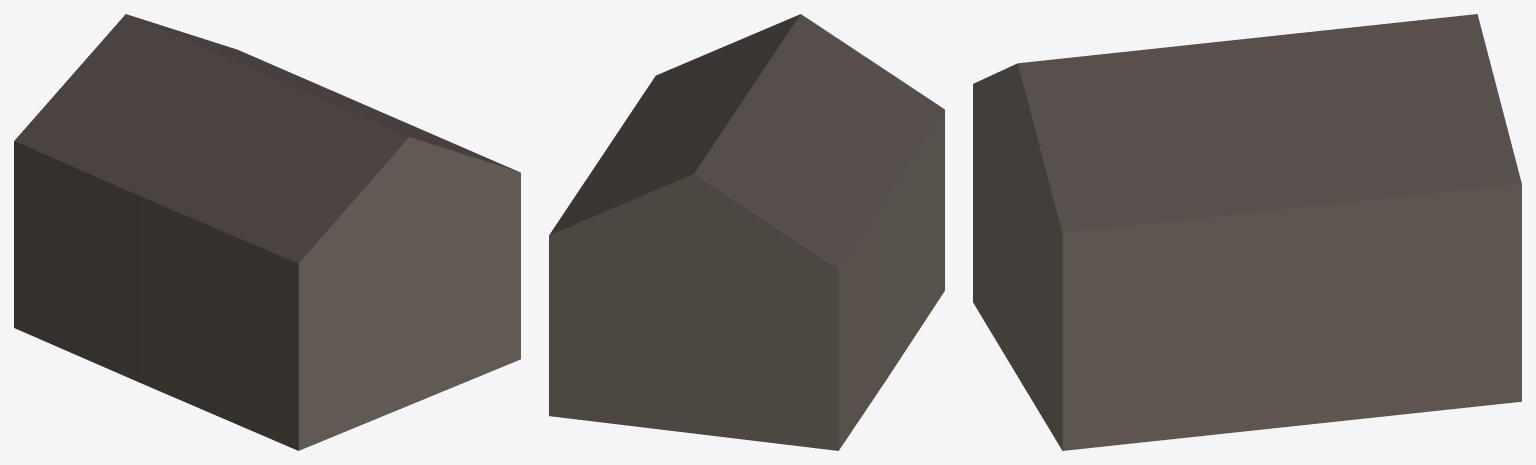
The picture shows the model from 3 angles, left to right: view 1: azimuth 30°, elevation 25°; view 2: azimuth 150°, elevation 25°; view 3: azimuth 270°, elevation 25°; orthographic projection. The views are drawn at different scales.
Parts seen in each view (by area): view 1: HP-w1197283889; view 2: HP-w1197283889; view 3: HP-w1197283889.
Boxes of the visible parts, left/top/right/bottom form: HP-w1197283889: left=14, top=14, right=520, bottom=450; HP-w1197283889: left=549, top=14, right=944, bottom=450; HP-w1197283889: left=973, top=14, right=1521, bottom=450.
Bounding box in the file's own units: 11.69 × 8.62 × 13.68.
